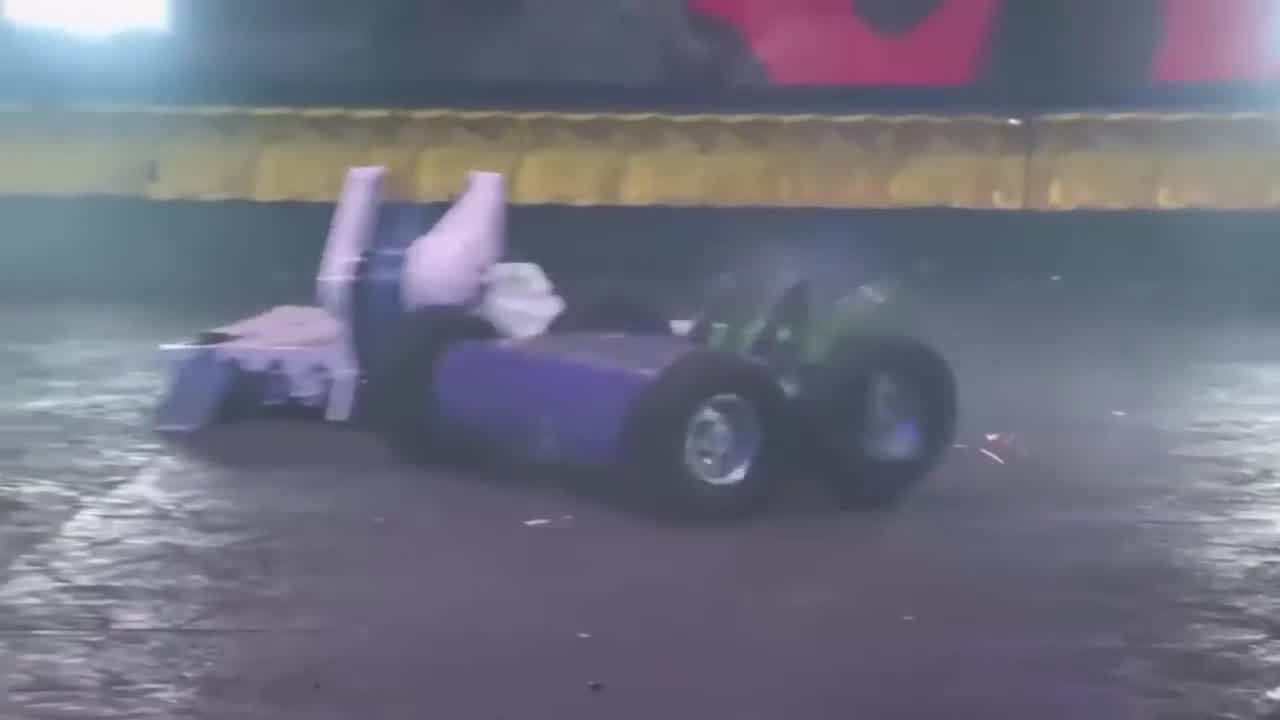combatbot: (431, 273, 958, 519), (159, 163, 570, 438)
